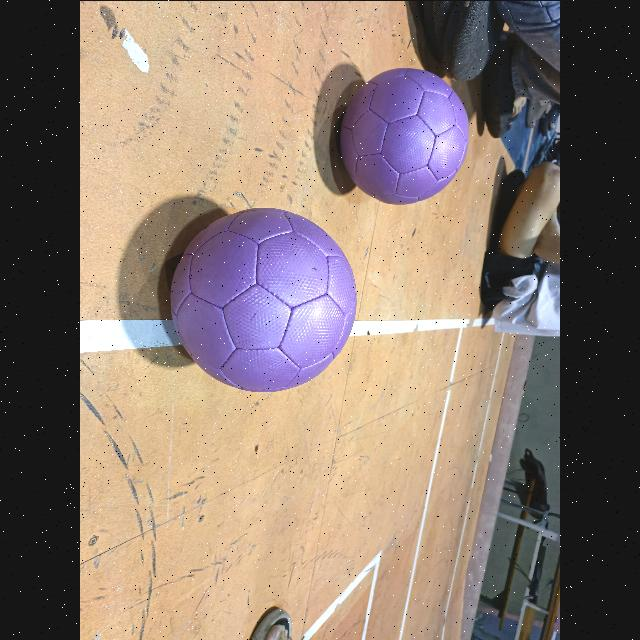P: (171, 208, 357, 390), (341, 68, 469, 202)
